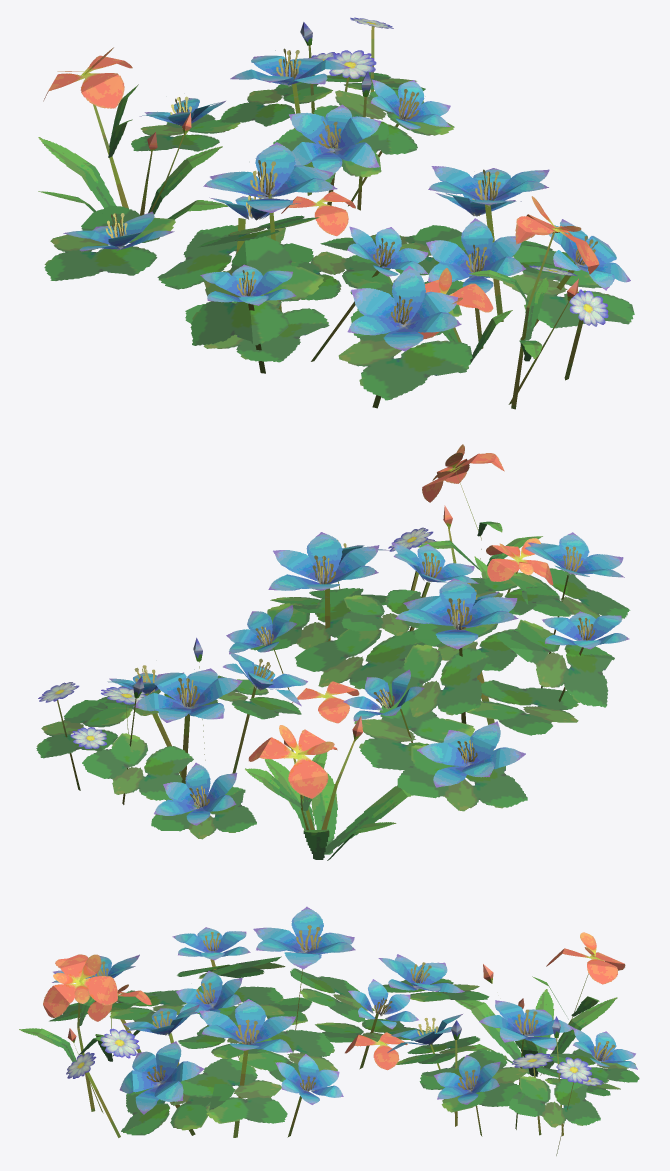
File: gi-Flower_Blue_02.glb
The picture shows the model from 3 angles, top to bottom: view 1: azimuth 30°, elevation 25°; view 2: azimuth 150°, elevation 25°; view 3: azimuth 270°, elevation 25°; orthographic projection. The views are drawn at different scales.
Visible parts, largest first — view 1: gi-Flower_Blue_02; view 2: gi-Flower_Blue_02; view 3: gi-Flower_Blue_02.
Part boxes in pixels (x1,y1,x2,y2): gi-Flower_Blue_02: [38, 17, 634, 409]; gi-Flower_Blue_02: [36, 444, 630, 860]; gi-Flower_Blue_02: [19, 906, 639, 1155].
Size of the model in its own units: 0.89 by 0.3883 by 1.3.
Materials: 1 (1 with a texture image).
